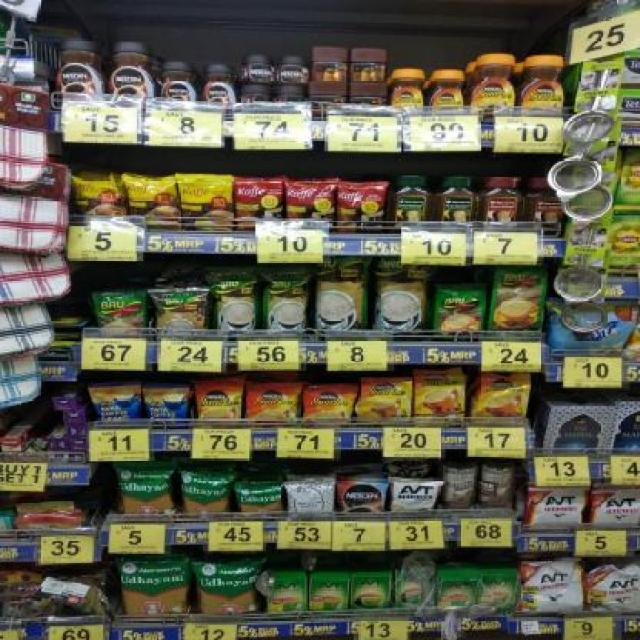Coffee: (55, 38, 103, 108), (109, 38, 154, 110), (469, 55, 514, 122), (415, 368, 465, 427), (477, 370, 529, 426), (519, 55, 566, 116), (360, 378, 411, 427), (302, 383, 352, 429), (249, 383, 296, 426), (158, 61, 197, 111), (196, 383, 239, 428), (339, 477, 386, 518), (203, 61, 237, 112), (431, 70, 466, 118), (390, 68, 422, 120), (241, 54, 274, 84), (278, 55, 310, 85), (242, 86, 272, 117), (276, 88, 306, 117)
